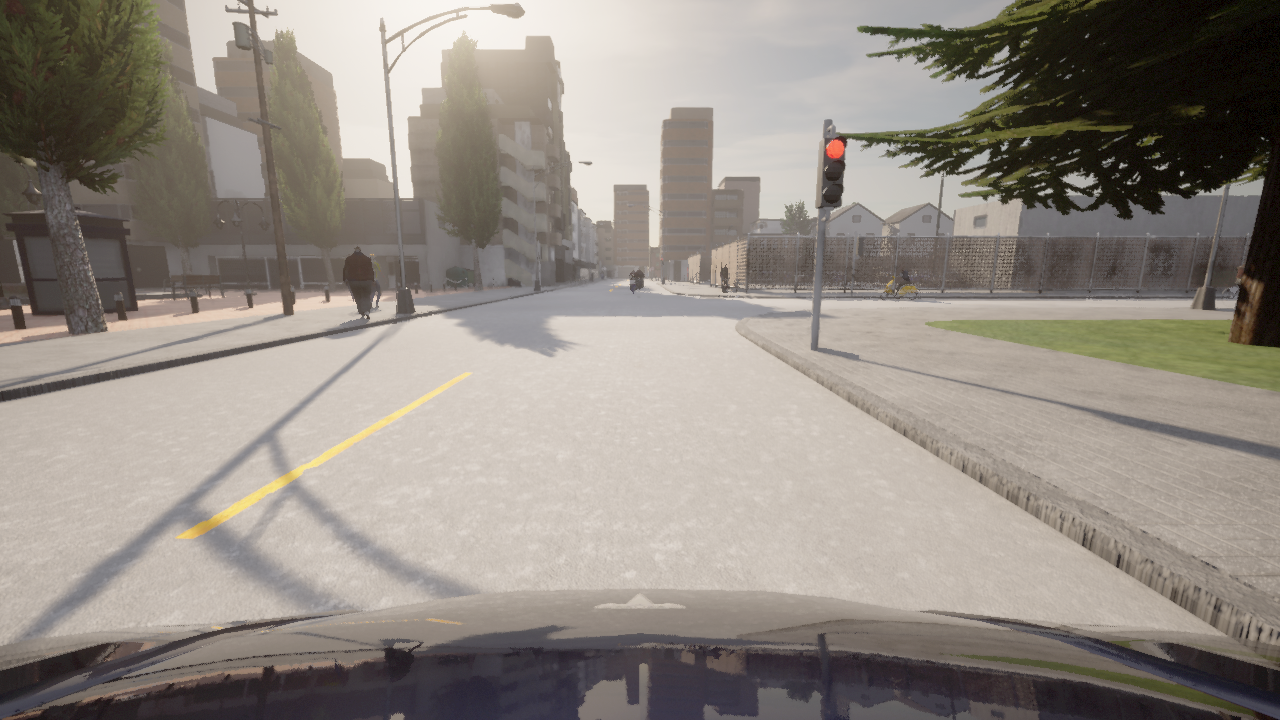cyclist: (0, 588, 1279, 719), (879, 273, 919, 299), (870, 267, 898, 283), (912, 269, 940, 283), (1222, 284, 1239, 306), (781, 271, 813, 282), (750, 266, 772, 280), (823, 270, 847, 282), (791, 273, 810, 283), (900, 271, 917, 281), (630, 274, 638, 293), (638, 275, 643, 288), (935, 271, 940, 273)
pedestrian: (342, 245, 375, 319), (369, 252, 387, 307), (721, 262, 728, 291)
